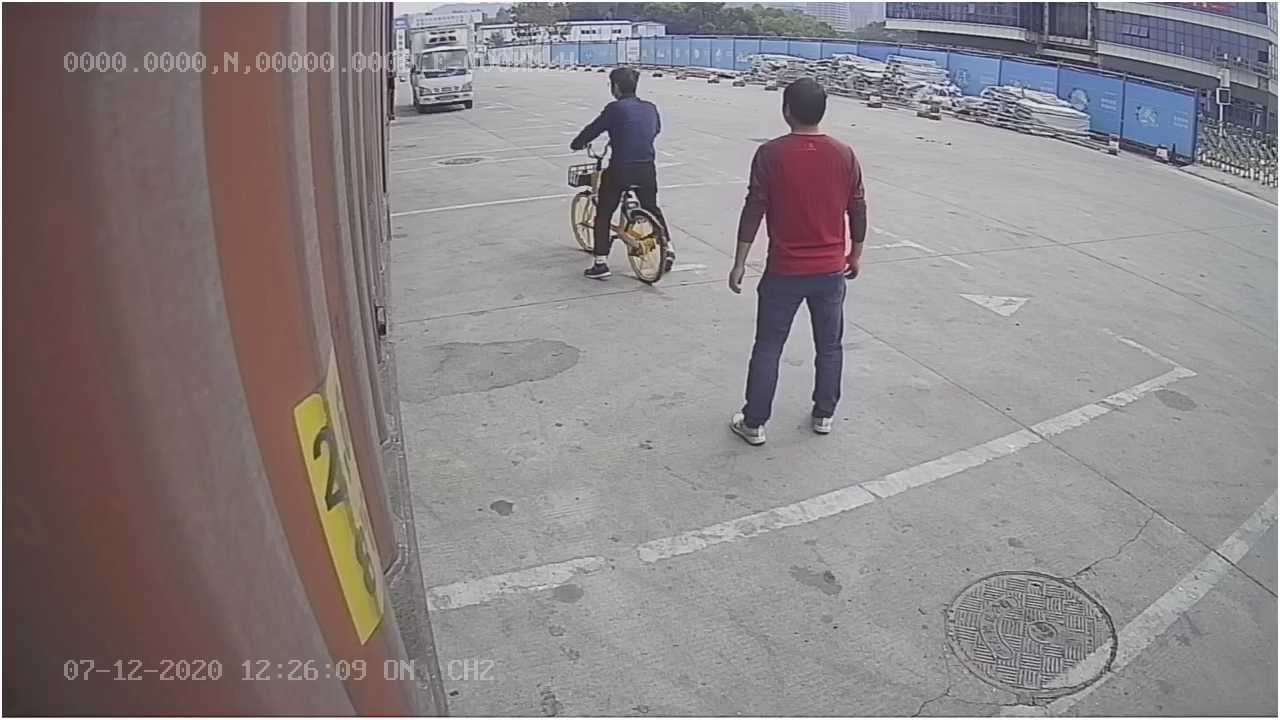person: (723, 75, 873, 454)
